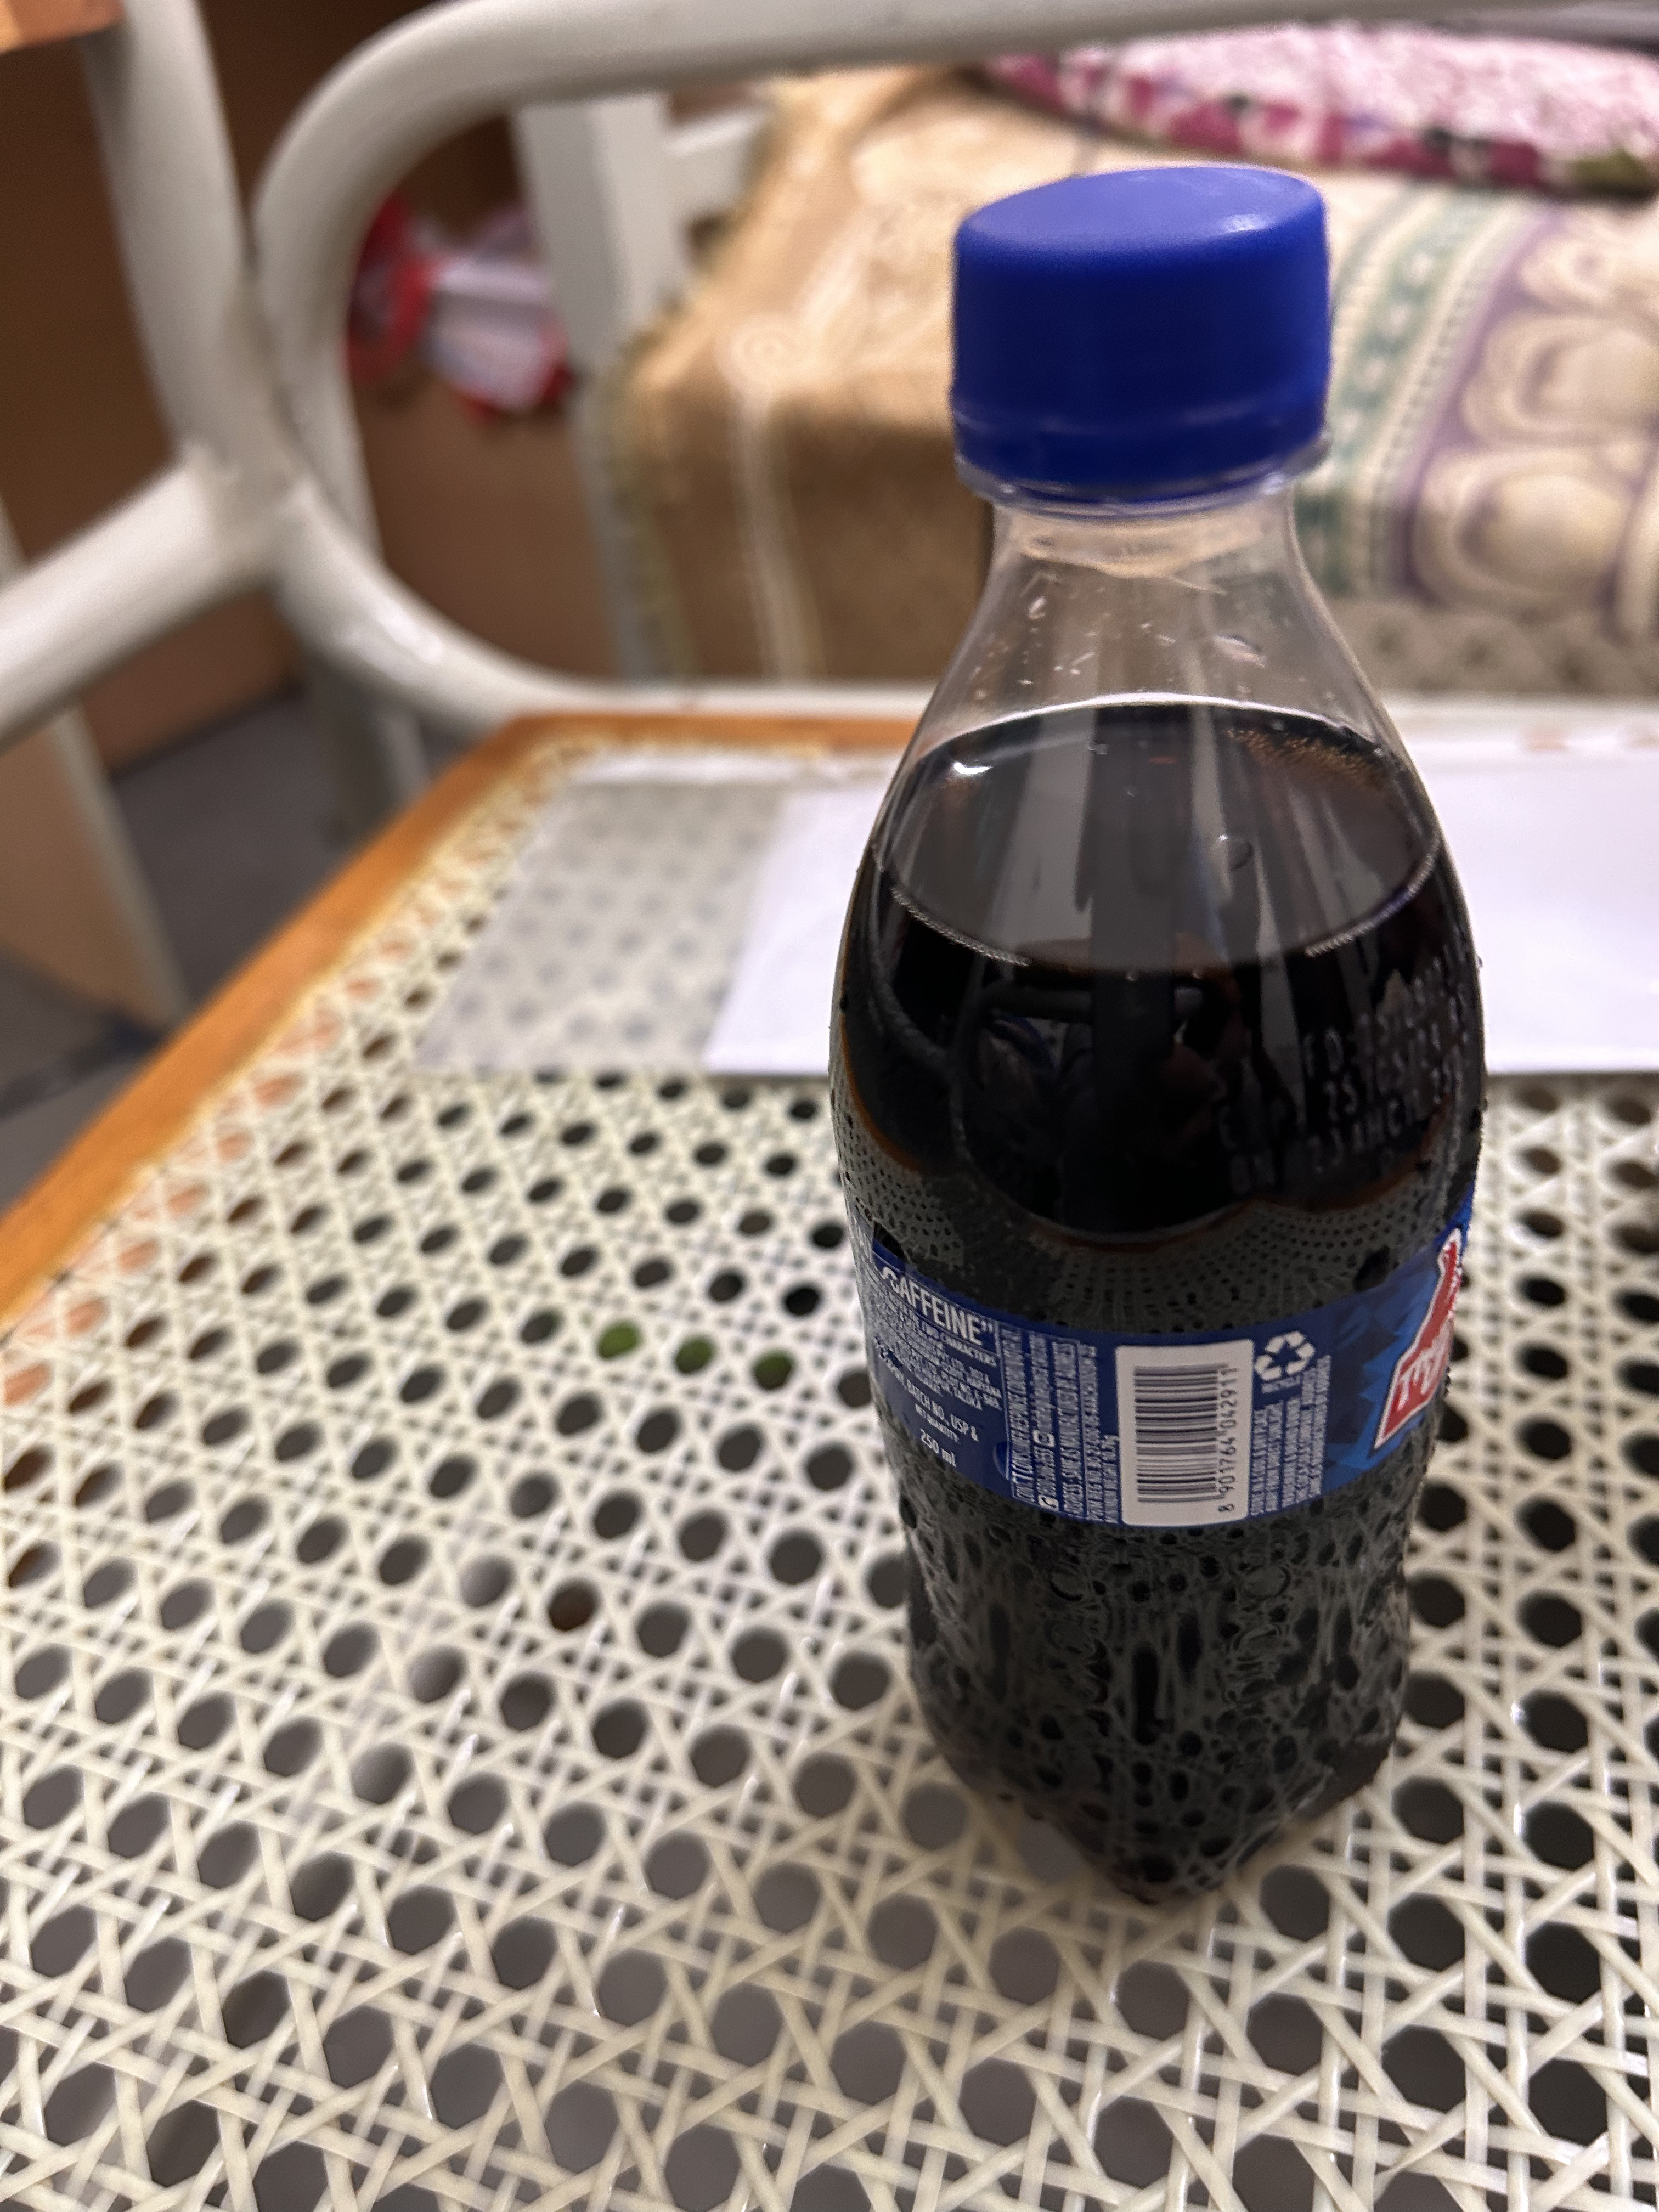sealstable: (917, 171, 1405, 557)
